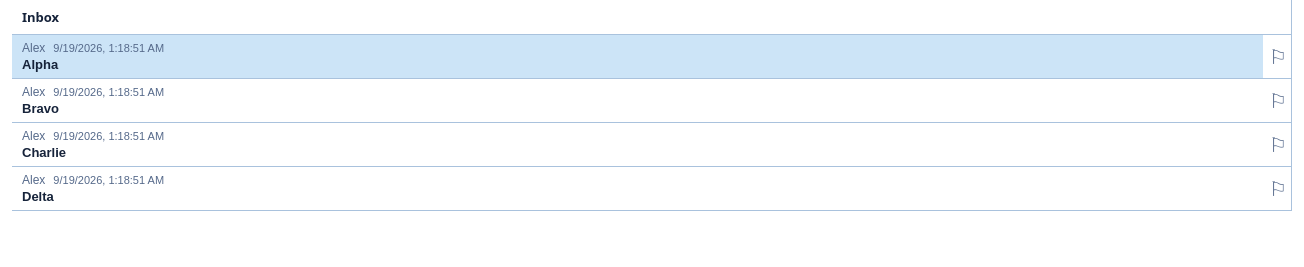
it: MessageListPane › 040 AC2: right-clicking a message outside the current selection selects just that message first
Right-click the text "Bravo" at (40, 108), box [22, 101, 59, 116]
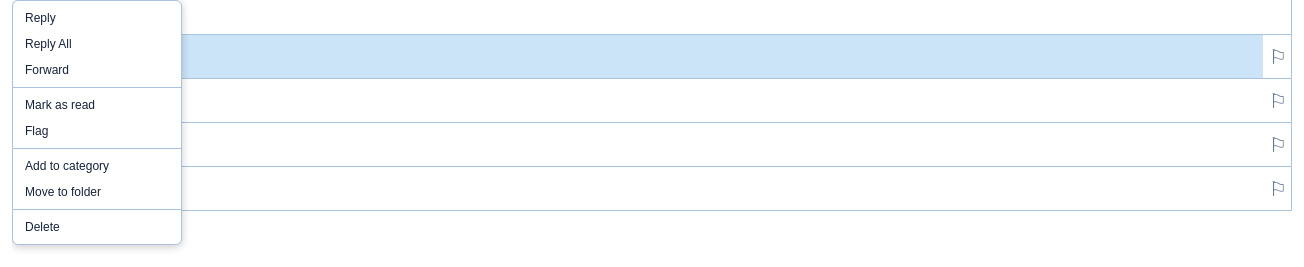
Expected: the menu is shown, [12, 0, 182, 245]
Expected: the menu item "Reply" is enabled, [13, 5, 181, 31]
